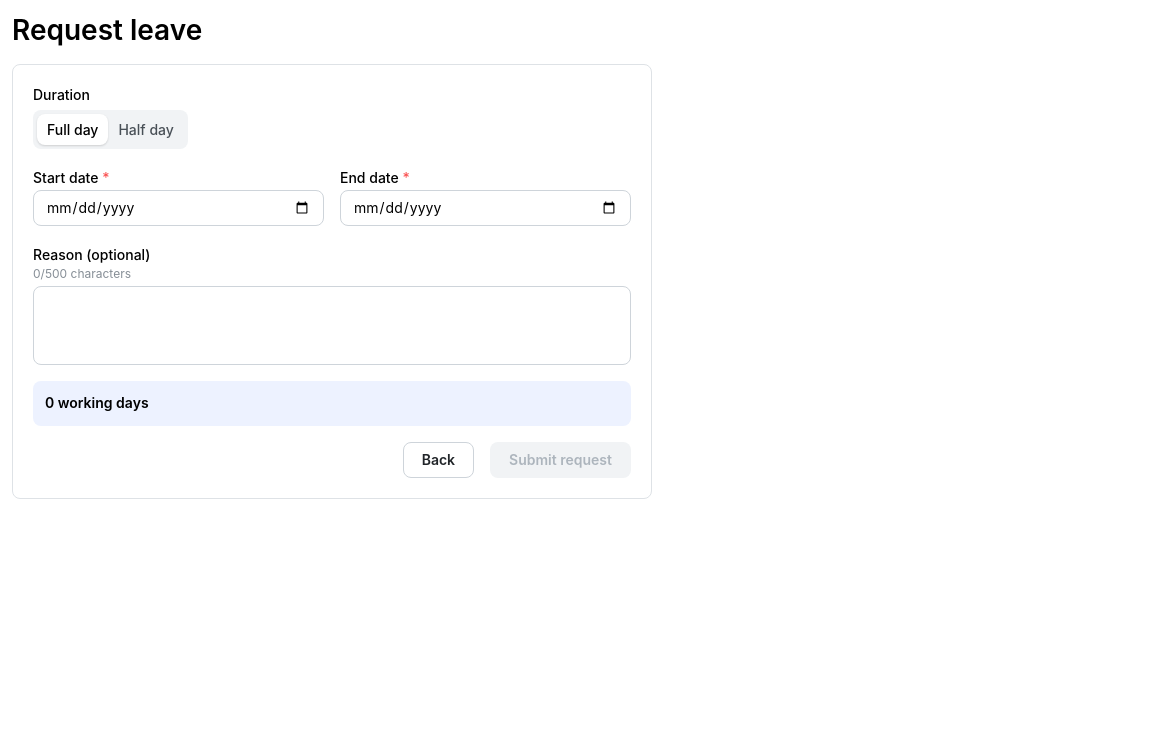
it: NewRequest › submits a full-day request and goes to My requests
This screenshot has width=1164, height=732.
Type "2026-11-02" into the date field labelled "Start date *" at (178, 208), box [33, 190, 324, 226]
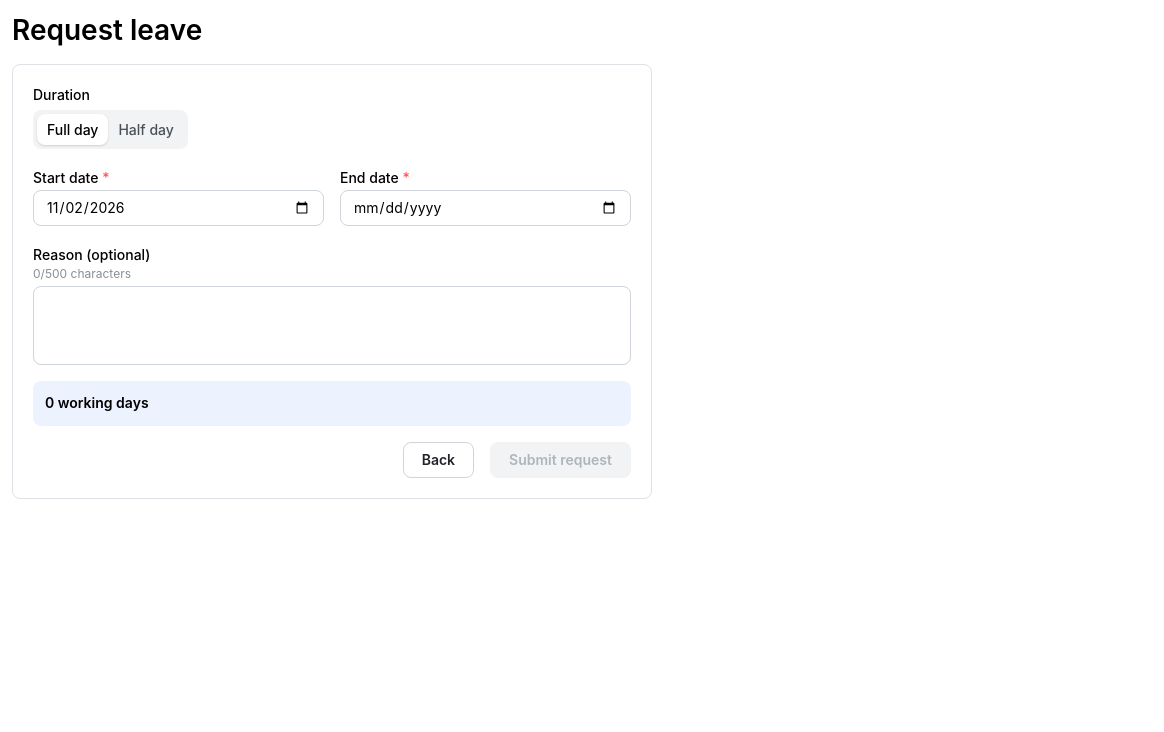
Type "2026-11-06" into the date field labelled "End date *" at (486, 208), box [340, 190, 631, 226]
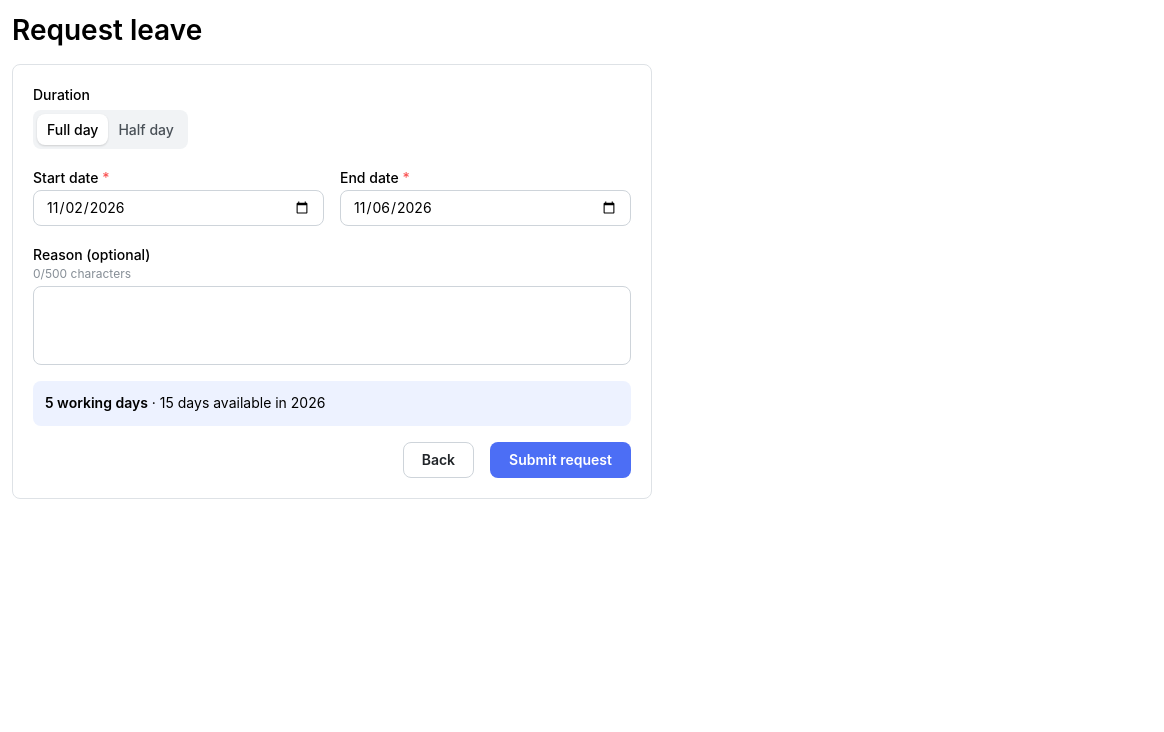
Type "Family trip" into the text box labelled "Reason (optional)" at (332, 326), box [33, 286, 631, 365]
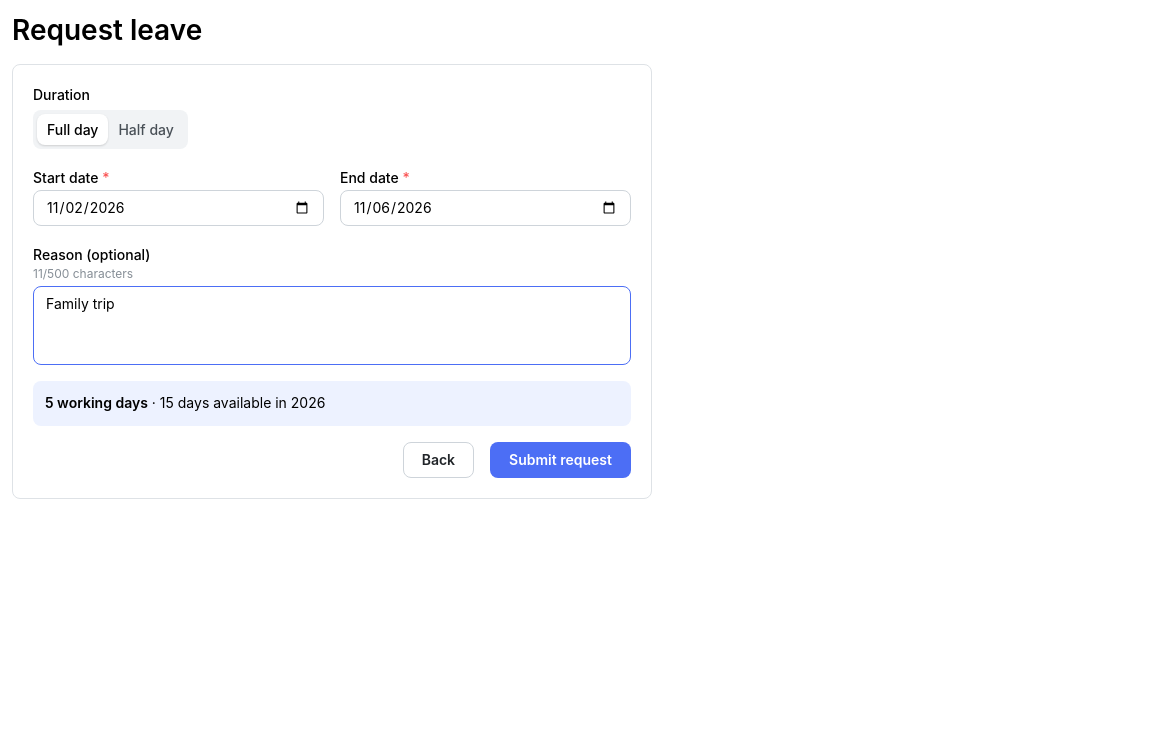
Click the button "Submit request" at (561, 460), box [490, 442, 631, 478]
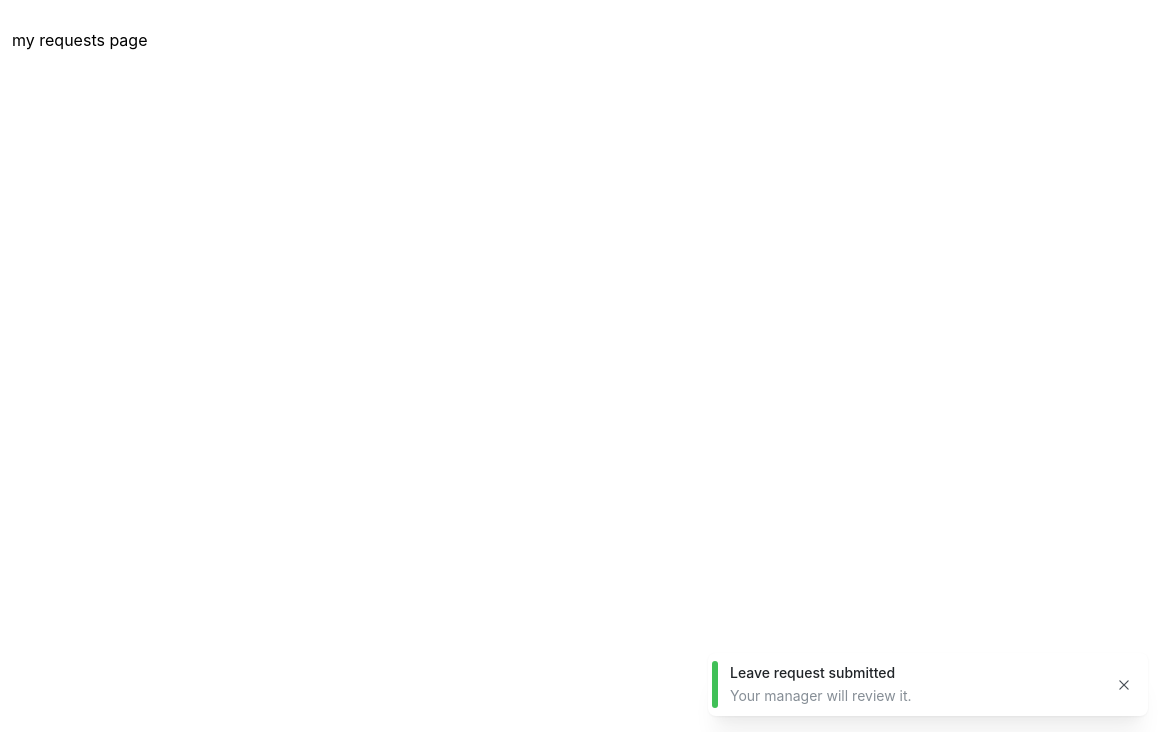
Now the text "my requests page" is shown, box [12, 30, 148, 50]
Now the text "Leave request submitted" is shown, box [730, 664, 895, 681]
